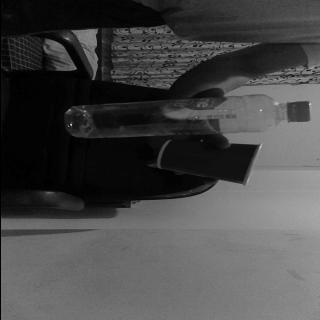objects: (154, 137, 260, 185)
plastic_bottles: (62, 94, 308, 139)
